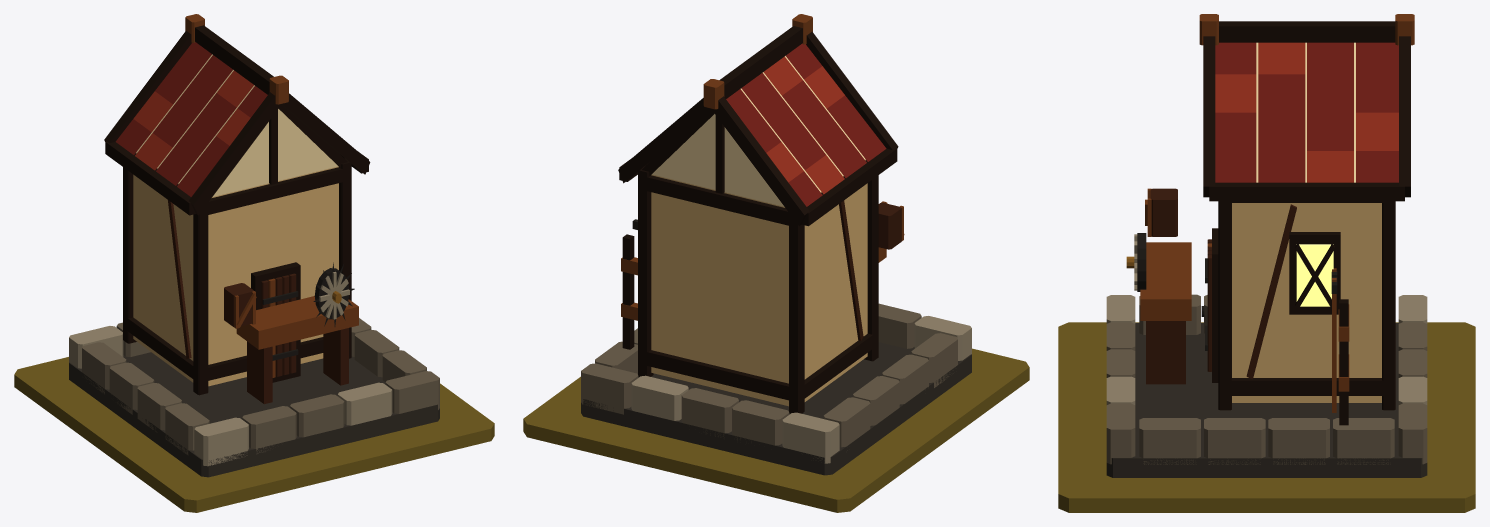
File: workshop_t3.glb
The picture shows the model from 3 angles, left to right: view 1: azimuth 30°, elevation 25°; view 2: azimuth 150°, elevation 25°; view 3: azimuth 270°, elevation 25°; orthographic projection. The views are drawn at different scales.
Visible parts, largest first — view 1: MMR | workshop | T03 Architecture.001, MMR | workshop | Tier 03 Ground.001; view 2: MMR | workshop | T03 Architecture.001, MMR | workshop | Tier 03 Ground.001; view 3: MMR | workshop | T03 Architecture.001, MMR | workshop | Tier 03 Ground.001.
Boxes of the visible parts, x1=… form: MMR | workshop | T03 Architecture.001: x1=69, y1=14, x2=439, y2=477; MMR | workshop | Tier 03 Ground.001: x1=14, y1=357, x2=494, y2=512; MMR | workshop | T03 Architecture.001: x1=581, y1=14, x2=971, y2=475; MMR | workshop | Tier 03 Ground.001: x1=523, y1=348, x2=1029, y2=512; MMR | workshop | T03 Architecture.001: x1=1106, y1=14, x2=1427, y2=477; MMR | workshop | Tier 03 Ground.001: x1=1058, y1=322, x2=1475, y2=512.
Bounding box in the file's own units: 1.3 × 1.4 × 1.3.
Materials: 2 (1 with a texture image).
